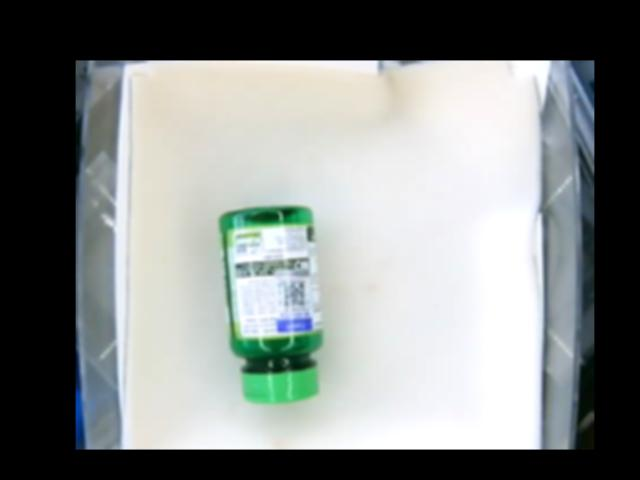Bottle: (216, 203, 321, 402)
